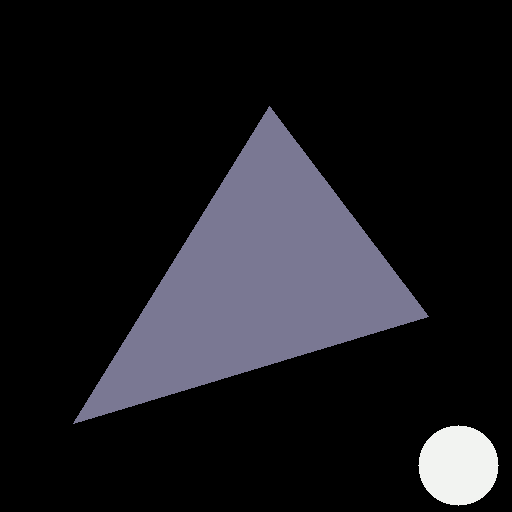circle: (418, 425, 498, 505)
triangle: (73, 106, 428, 423)
